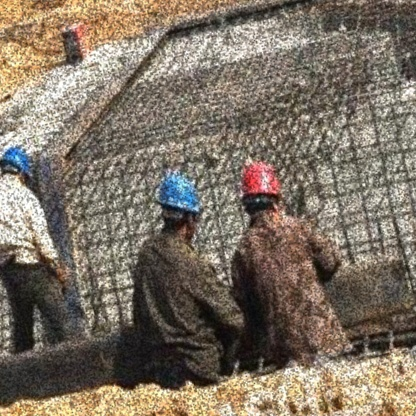blue: (145, 165, 205, 225), (0, 135, 38, 186)
red: (231, 154, 287, 207)
